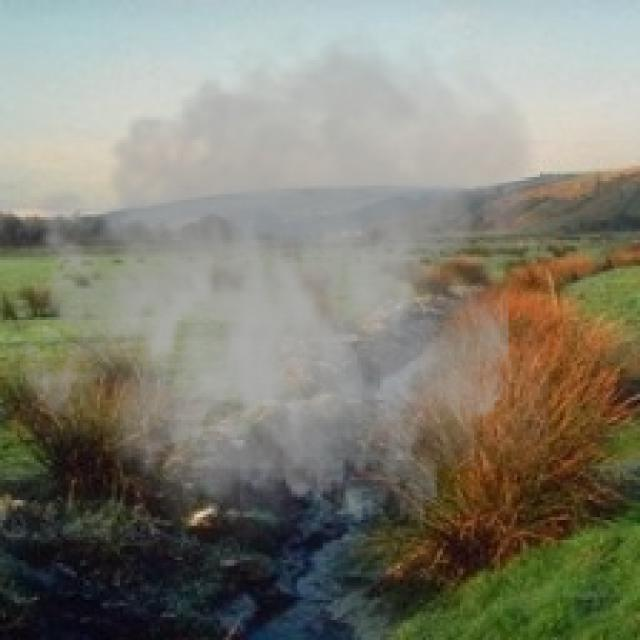smoke: (0, 14, 549, 566)
